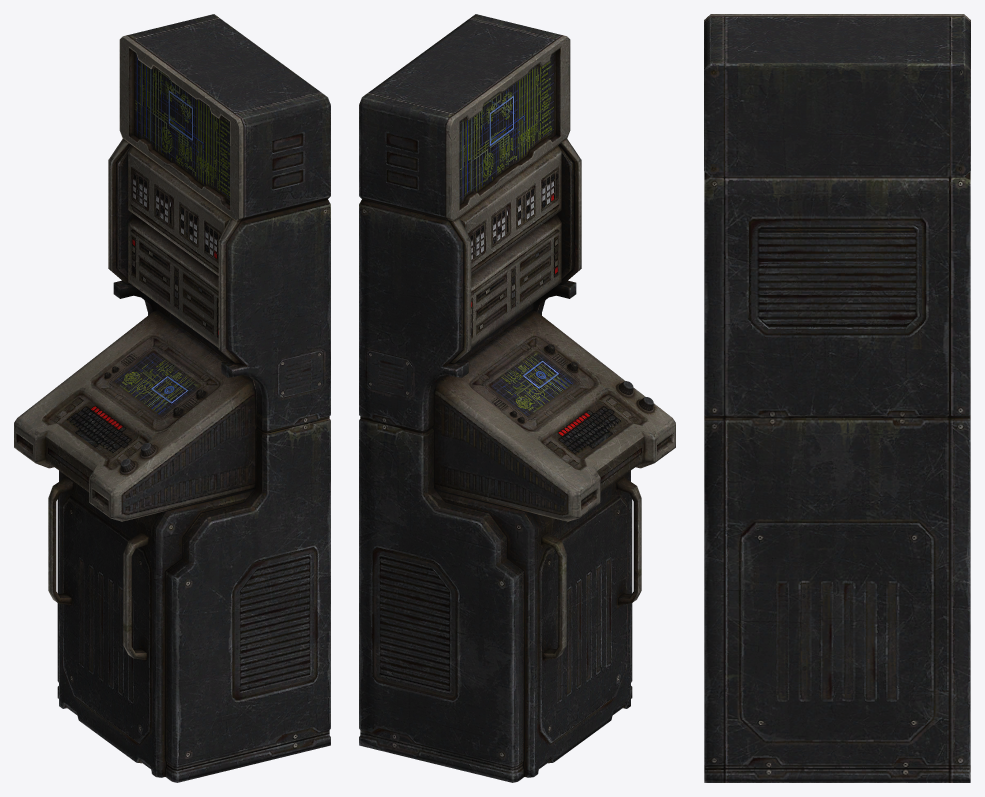
The model's file is prop_computerUnit_C.glb.
3 renders of one model, left to right at view 1: azimuth 30°, elevation 25°; view 2: azimuth 150°, elevation 25°; view 3: azimuth 270°, elevation 25°, orthographic. The views are drawn at different scales.
Visible parts, largest first — view 1: prop_computerUnit_C; view 2: prop_computerUnit_C; view 3: prop_computerUnit_C.
Part boxes in pixels (x1,y1,x2,y2): prop_computerUnit_C: (14,14,330,782); prop_computerUnit_C: (359,14,675,782); prop_computerUnit_C: (704,14,970,782).
Bounding box in the file's own units: 1.07 × 3.16 × 1.06.
Materials: 2 (2 with a texture image).
